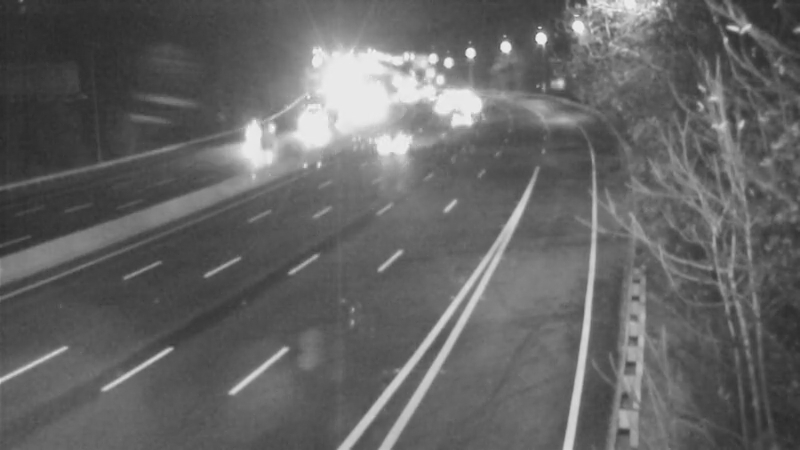vehicle: (445, 77, 495, 127), (408, 83, 458, 133), (437, 93, 487, 143), (374, 109, 424, 159), (226, 112, 276, 162), (292, 98, 342, 148)
